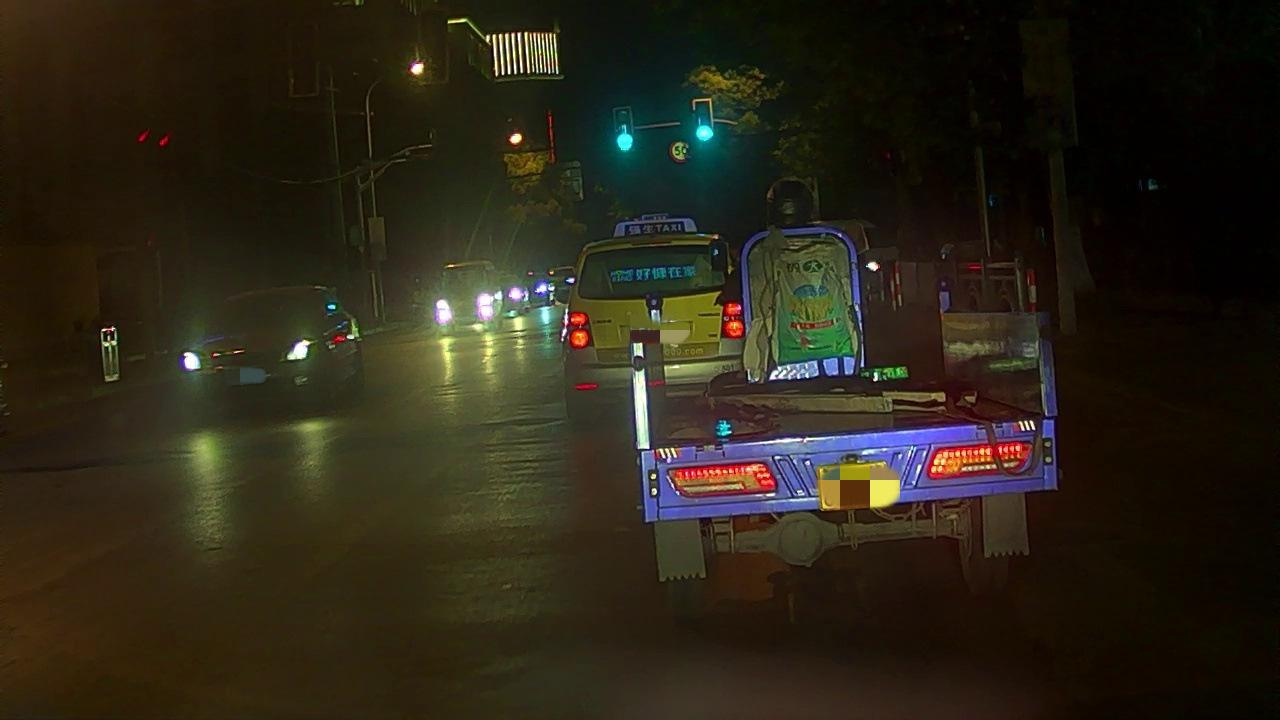traffic_light: (613, 109, 635, 152), (695, 101, 714, 144)
